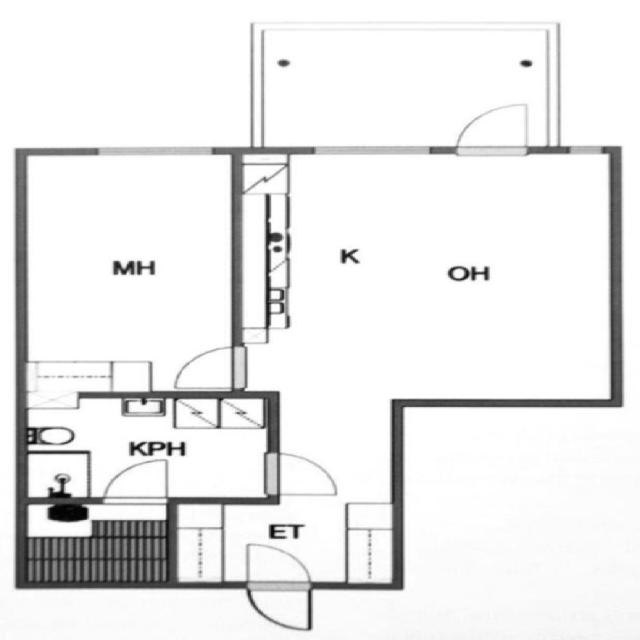door: (238, 539, 318, 634), (449, 100, 538, 161), (261, 446, 348, 502), (168, 340, 252, 395), (97, 455, 176, 507)
window: (87, 138, 225, 163), (300, 138, 443, 162), (557, 140, 610, 160)
zone: (242, 146, 620, 409), (23, 146, 237, 390), (13, 392, 278, 506), (162, 482, 408, 586), (19, 501, 170, 586), (223, 530, 325, 636), (252, 445, 351, 508), (20, 453, 88, 498)
